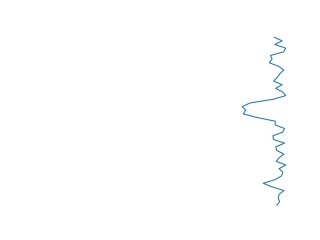interdistributaryEstuary: (237, 36, 291, 206)
